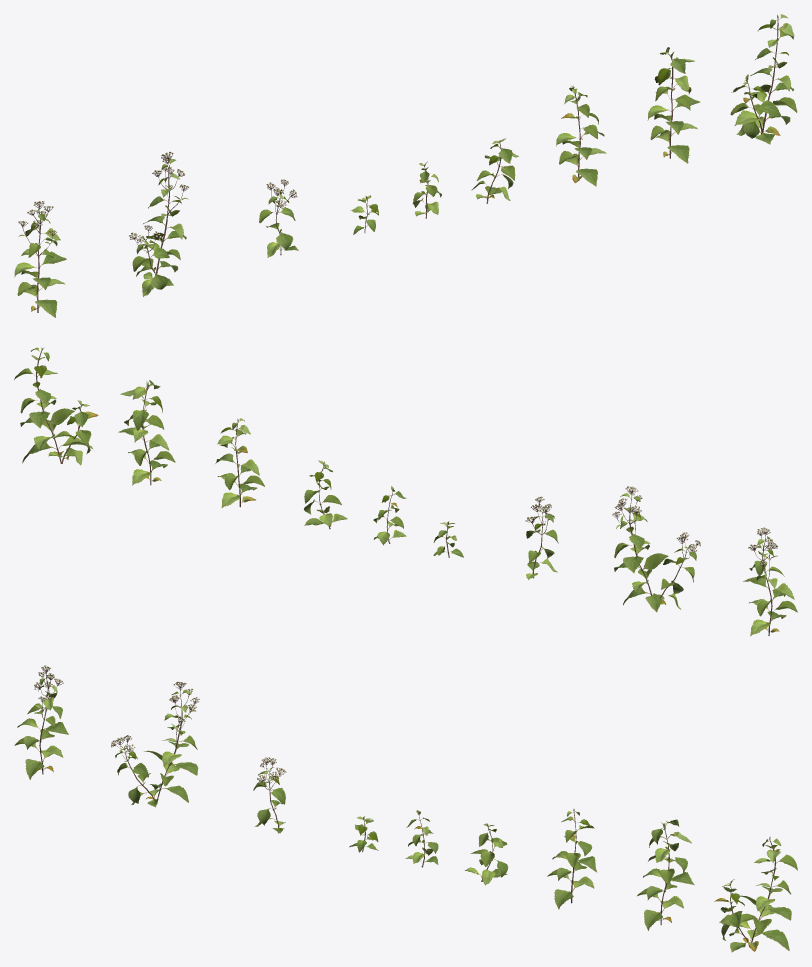
The model's file is shrub_01.glb.
3 views of the same model, one above another, from view 1: azimuth 30°, elevation 25°; view 2: azimuth 150°, elevation 25°; view 3: azimuth 330°, elevation 25° (orthographic). The views are drawn at different scales.
Visible parts, largest first — view 1: shrub_01_a; view 2: shrub_01_a; view 3: shrub_01_a.
Boxes of the visible parts, x1,y1,x2,y2 form: shrub_01_a: (14, 14, 797, 317); shrub_01_a: (14, 347, 797, 636); shrub_01_a: (14, 665, 797, 952).
Size of the model in its own units: 2.59 by 0.396 by 0.2185.
1 material, 1 textured.
